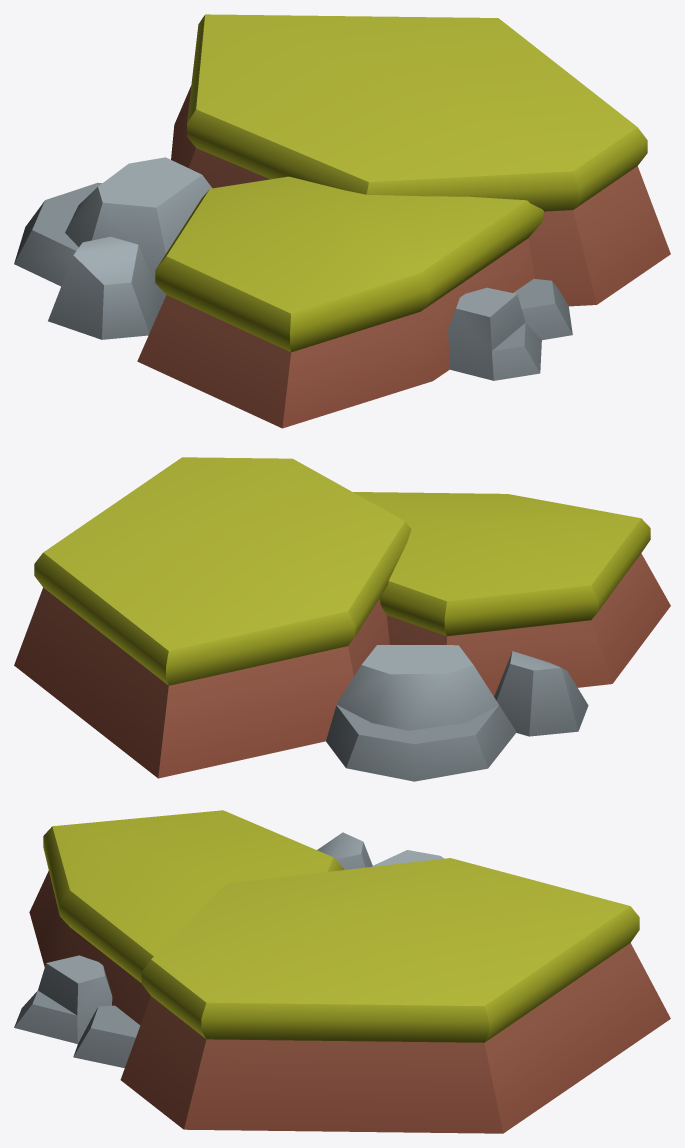
Rendered from hills_B.gltf.
3 renders of one model, top to bottom at view 1: azimuth 30°, elevation 25°; view 2: azimuth 150°, elevation 25°; view 3: azimuth 270°, elevation 25°, orthographic. The views are drawn at different scales.
Parts seen in each view (by area): view 1: hills_B; view 2: hills_B; view 3: hills_B.
Part boxes in pixels (x1,y1,x2,y2): hills_B: (14,14,670,428); hills_B: (14,457,670,781); hills_B: (14,810,670,1133).
Bounding box in the file's own units: 1.47 × 0.366 × 1.62.
Materials: 1 (1 with a texture image).
